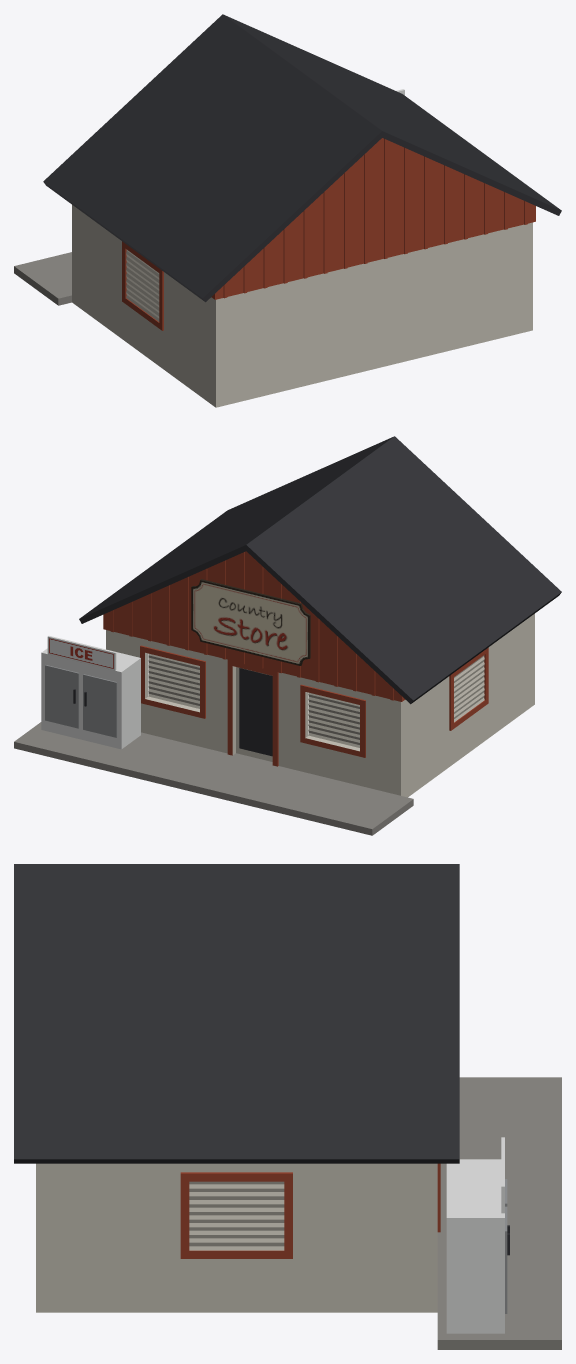
Rendered from general-store.glb.
The picture shows the model from 3 angles, top to bottom: view 1: azimuth 30°, elevation 25°; view 2: azimuth 150°, elevation 25°; view 3: azimuth 270°, elevation 25°; orthographic projection. The views are drawn at different scales.
Visible parts, largest first — view 1: GeneralStore; view 2: GeneralStore; view 3: GeneralStore.
Part boxes in pixels (<box>): GeneralStore: <box>14,14,561,407</box>; GeneralStore: <box>14,436,561,835</box>; GeneralStore: <box>14,864,561,1349</box>.
Size of the model in its own units: 8.67 by 5.14 by 7.5.
Materials: 5 (1 with a texture image).
